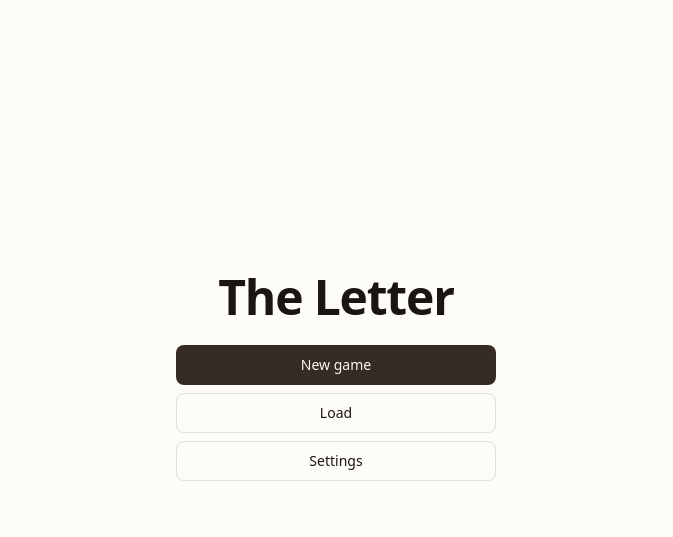
it: the pages › sets a play setting from the title screen through the runner, and the next new game keeps it
The image size is (673, 537).
Click the button "Settings": (336, 461) [176,441,496,481]
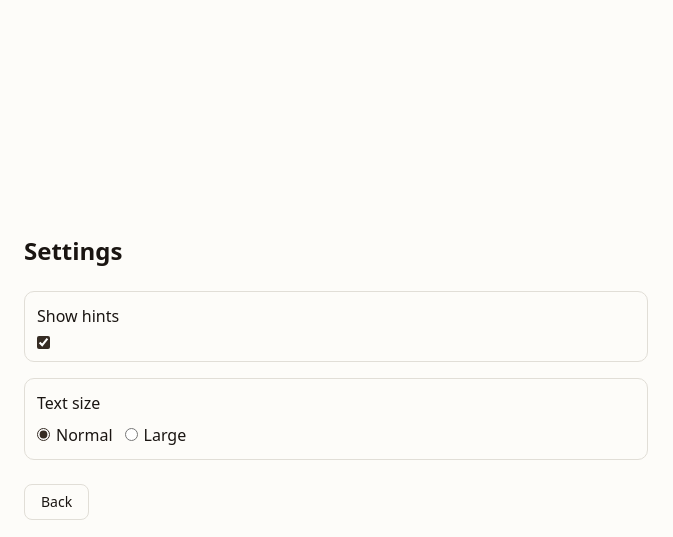
Now the checkbox with id "setting-hints" is checked
Click the checkbox with id "setting-hints": (44, 342) [37,336,50,348]
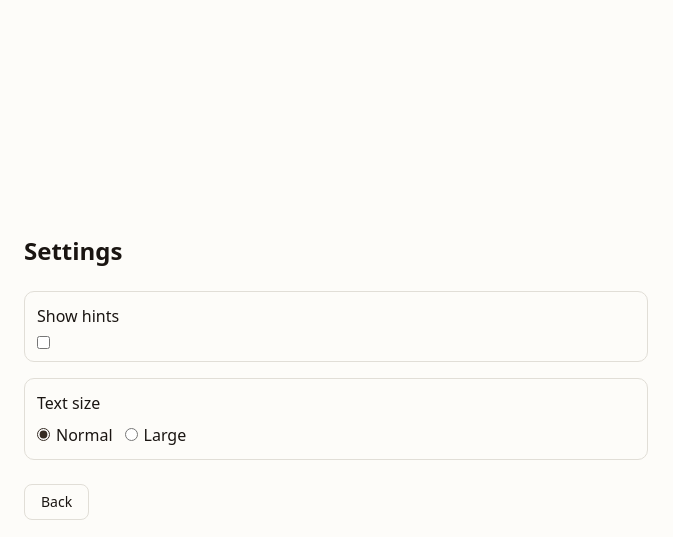
Click the button "Back": (57, 502) [24,484,89,520]
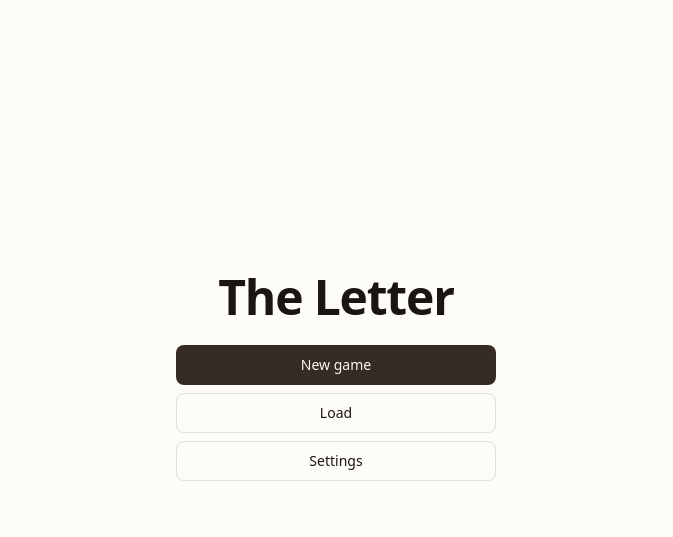
Click the button "New game": (336, 365) [176,345,496,385]
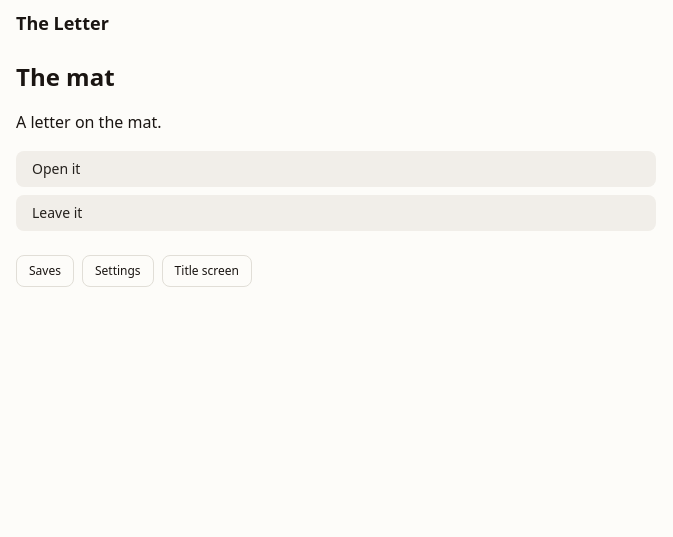
Now the text "A letter on the mat." is shown, box [16,111,162,133]
